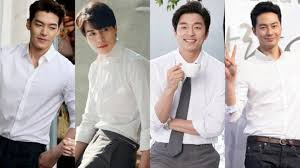F_shirt: (76, 43, 151, 150), (1, 43, 75, 145), (151, 48, 224, 146), (226, 48, 300, 136)
